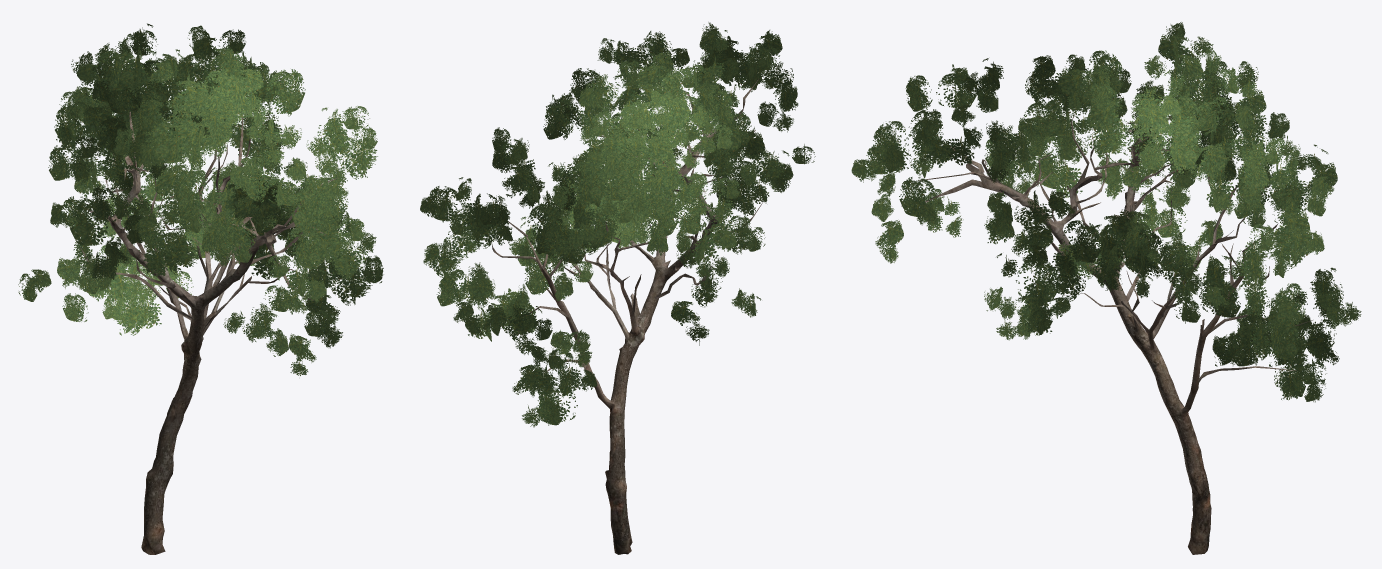
Rendered from tree_small_02.glb.
The picture shows the model from 3 angles, left to right: view 1: azimuth 30°, elevation 25°; view 2: azimuth 150°, elevation 25°; view 3: azimuth 270°, elevation 25°; orthographic projection. The views are drawn at different scales.
Parts seen in each view (by area): view 1: tree_small_02; view 2: tree_small_02; view 3: tree_small_02.
Part boxes in pixels (x1,y1,x2,y2): tree_small_02: (18, 23, 383, 554); tree_small_02: (420, 22, 815, 554); tree_small_02: (851, 22, 1361, 554).
Bounding box in the file's own units: 3.04 × 4.57 × 4.28.
2 materials, 2 textured.
